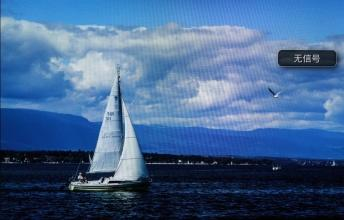bird: (264, 87, 289, 102)
fanchuan: (65, 60, 155, 192)
